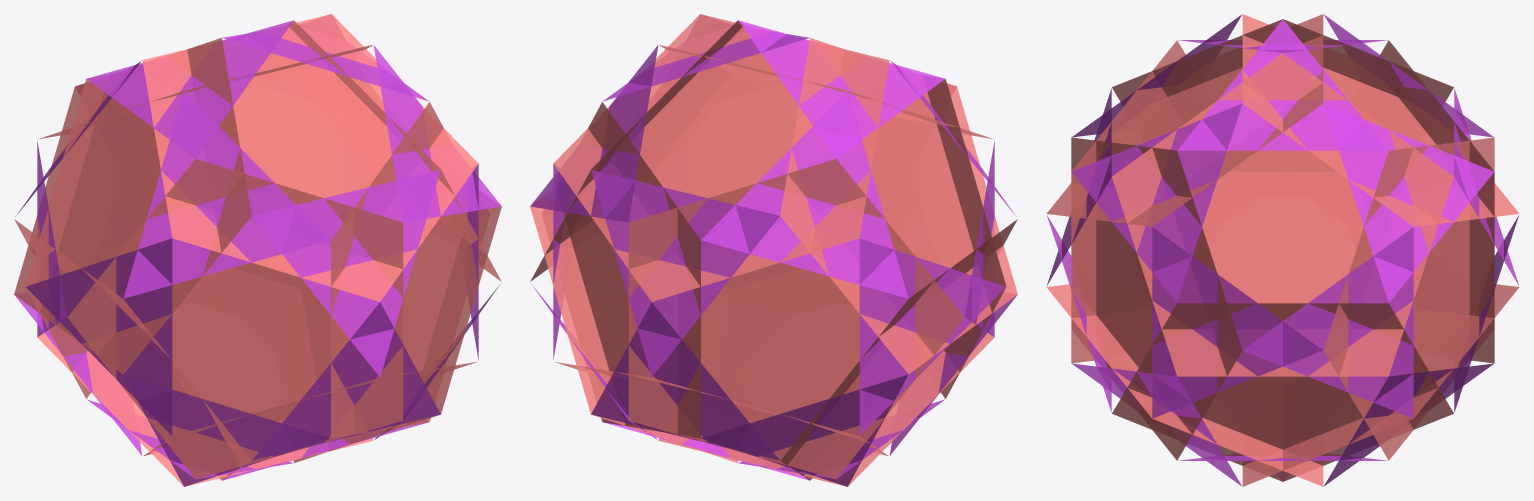
File: GreatDitrigonalDodecicosidodecahedronA.obj
3 views of the same model, side by side, from view 1: azimuth 30°, elevation 25°; view 2: azimuth 150°, elevation 25°; view 3: azimuth 270°, elevation 25° (orthographic). The views are drawn at different scales.
Bounding box in the file's own units: 2.24 × 2.24 × 2.24.
